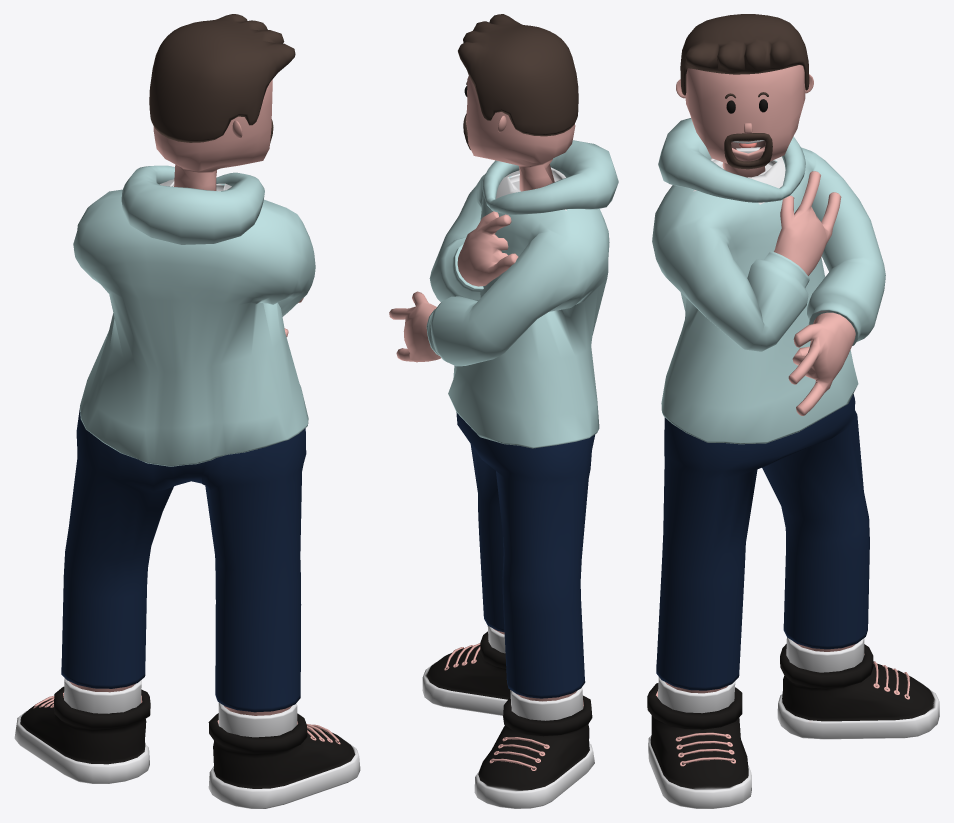
The model's file is FramePose.glb.
3 renders of one model, left to right at view 1: azimuth 30°, elevation 25°; view 2: azimuth 150°, elevation 25°; view 3: azimuth 270°, elevation 25°, orthographic. The views are drawn at different scales.
Visible parts, largest first — view 1: Hoodie, pants, Body, Shoes.R, Shoes.L; view 2: Hoodie, pants, Body, Shoes.L, Shoes.R; view 3: Hoodie, pants, Body, Shoes.L, Shoes.R.
Part boxes in pixels (bbox=[...]): Hoodie: bbox=[73, 165, 315, 466]; pants: bbox=[61, 408, 306, 712]; Body: bbox=[69, 14, 303, 715]; Shoes.R: bbox=[208, 702, 360, 808]; Shoes.L: bbox=[14, 678, 150, 783]; Hoodie: bbox=[426, 140, 618, 448]; pants: bbox=[456, 412, 595, 698]; Body: bbox=[389, 14, 578, 701]; Shoes.L: bbox=[474, 687, 594, 808]; Shoes.R: bbox=[422, 626, 510, 715]; Hoodie: bbox=[652, 118, 885, 444]; pants: bbox=[656, 394, 869, 690]; Body: bbox=[665, 14, 855, 693]; Shoes.L: bbox=[777, 637, 939, 739]; Shoes.R: bbox=[647, 677, 751, 808].
Bounding box in the file's own units: 0.6498 × 1.99 × 0.716.
Materials: 2 (2 with a texture image).
